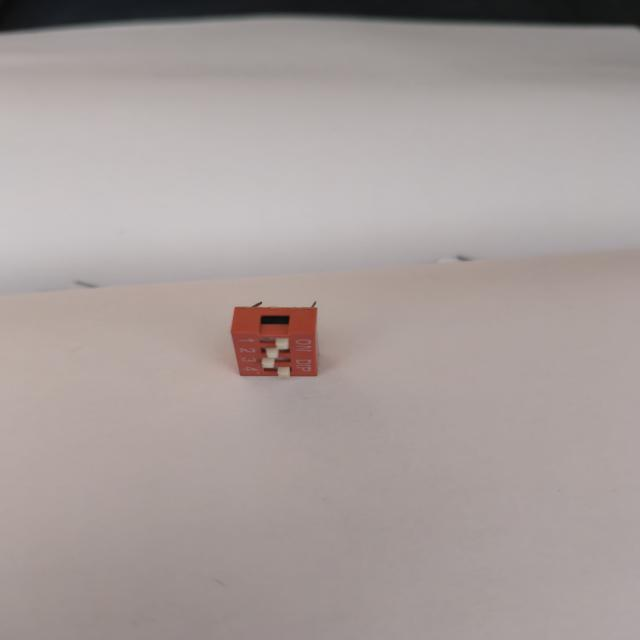switch: (221, 294, 342, 391)
